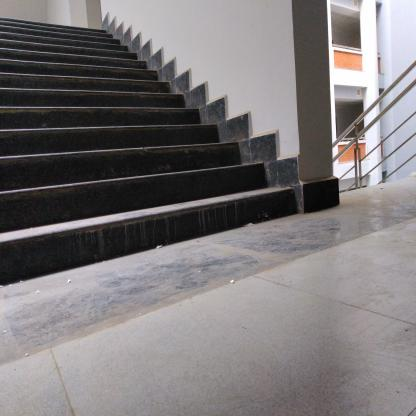stairs: (1, 25, 102, 282)
